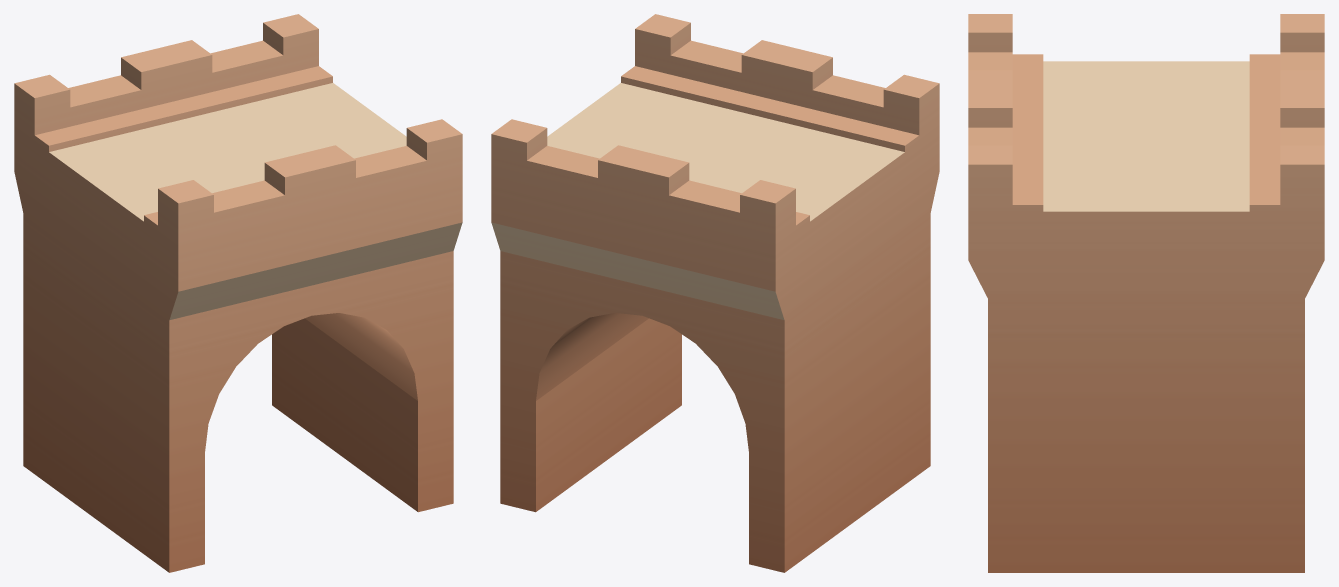
Rendered from bridge-straight.obj.
The picture shows the model from 3 angles, left to right: view 1: azimuth 30°, elevation 25°; view 2: azimuth 150°, elevation 25°; view 3: azimuth 270°, elevation 25°; orthographic projection. The views are drawn at different scales.
Visible parts, largest first — view 1: bridge-straight; view 2: bridge-straight; view 3: bridge-straight.
Part boxes in pixels (bbox=[...]): bridge-straight: bbox=[14, 14, 462, 572]; bridge-straight: bbox=[491, 14, 939, 572]; bridge-straight: bbox=[968, 14, 1324, 572].
Bounding box in the file's own units: 0.93 × 1.18 × 0.93.
Materials: 1 (1 with a texture image).
